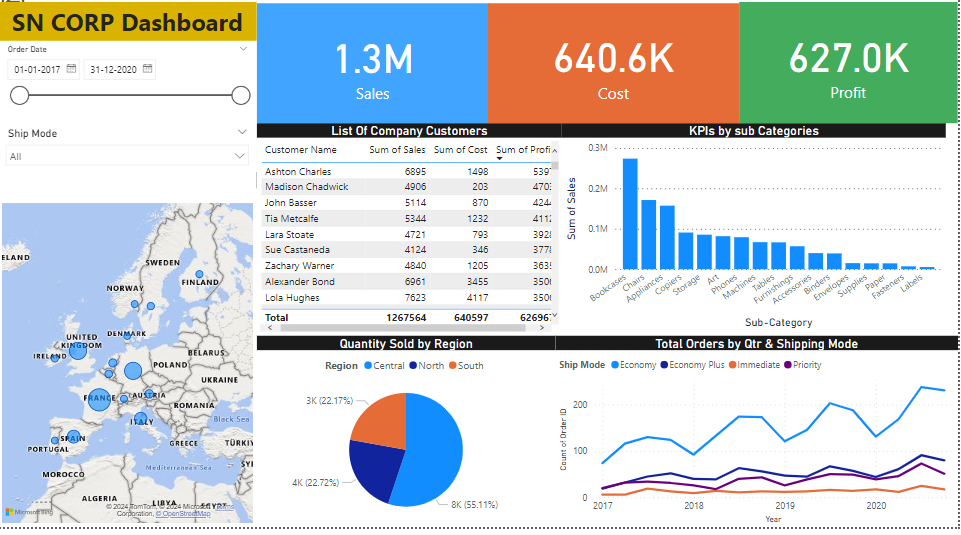

What the dashboard file says about the page in this screenshot:
{"tool":"powerbi","page":{"name":"Page 1","canvas":[1280,720],"ordinal":0},"visuals":[{"type":"card","fields":{"Values":["Sum(List of Orders.Sales)"]},"box":[356.9,31.8,283.6,141.8],"z":0},{"type":"card","fields":{"Values":["Sum(List of Orders.Sales)"]},"box":[393.8,10,283.6,141.8],"z":1000},{"type":"card","fields":{"Values":["Sum(List of Orders.Sales)"]},"box":[344.7,22,309.3,160.1],"z":2000},{"type":"card","fields":{"Values":["Sum(List of Orders.Cost)"]},"box":[667.4,0,299.5,169.9],"z":3000},{"type":"card","fields":{"Values":["Sum(List of Orders.Cost)"]},"box":[654,22,334.9,160.1],"z":4000},{"type":"card","fields":{"Values":["Sum(List of Orders.Profit)"]},"box":[988.9,20.8,290.9,161.4],"z":5000},{"type":"tableEx","title":"List Of Company Customers","fields":{"Values":["List of Orders.Customer Name","Sum(List of Orders.Sales)","Sum(List of Orders.Cost)","Sum(List of Orders.Profit)"]},"box":[344.7,182.1,407.1,282.4],"z":6000},{"type":"actionButton","box":[0,0,100,40],"z":7000},{"type":"clusteredColumnChart","title":"KPIs by sub Categories","fields":{"Y":["Sum(List of Orders.Sales)"],"Category":["List of Orders.Sub-Category"]},"box":[751.8,182.1,512.2,278.7],"z":8000},{"type":"lineChart","title":"Total Orders by Qtr & Shipping Mode","fields":{"Y":["CountNonNull(List of Orders.Order ID)"],"Category":["List of Orders.Order Date.Variation.Date Hierarchy.Year","List of Orders.Order Date.Variation.Date Hierarchy.Quarter"],"Series":["List of Orders.Ship Mode"]},"box":[743.2,464.5,536.6,255.5],"z":9000},{"type":"pieChart","title":"Quantity Sold by Region","fields":{"Y":["Sum(List of Orders.Quantity)"],"Category":["List of Orders.Region"]},"box":[344.7,464.5,398.5,255.5],"z":10000},{"type":"map","title":"Business by Countries Served","fields":{"Category":["List of Orders.Country"],"Size":["Sum(List of Orders.Sales)"]},"box":[0,246.9,344.7,473.1],"z":11000},{"type":"textbox","box":[0,20.8,344.7,52],"z":11001},{"type":"slicer","fields":{"Values":["List of Orders.Ship Mode"]},"box":[0,182.1,344.7,106.3],"z":11002},{"type":"slicer","fields":{"Values":["List of Orders.Order Date"]},"box":[0,70.9,344.7,111.2],"z":11003}]}

Visuals, with their boxes in screenshot pixels (x1, y1, x2, y2), scaled from the page's 1280x720 canvas onto the 961x535 screenshot:
card - Sum(List of Orders.Sales): [x1=268, y1=24, x2=481, y2=129]
card - Sum(List of Orders.Sales): [x1=296, y1=7, x2=509, y2=113]
card - Sum(List of Orders.Sales): [x1=259, y1=16, x2=491, y2=135]
card - Sum(List of Orders.Cost): [x1=501, y1=0, x2=726, y2=126]
card - Sum(List of Orders.Cost): [x1=491, y1=16, x2=742, y2=135]
card - Sum(List of Orders.Profit): [x1=742, y1=15, x2=960, y2=135]
"List Of Company Customers" tableEx: [x1=259, y1=135, x2=564, y2=345]
actionButton: [x1=0, y1=0, x2=75, y2=30]
"KPIs by sub Categories" clusteredColumnChart: [x1=564, y1=135, x2=949, y2=342]
"Total Orders by Qtr & Shipping Mode" lineChart: [x1=558, y1=345, x2=960, y2=534]
"Quantity Sold by Region" pieChart: [x1=259, y1=345, x2=558, y2=534]
"Business by Countries Served" map: [x1=0, y1=183, x2=259, y2=534]
textbox: [x1=0, y1=15, x2=259, y2=54]
slicer - List of Orders.Ship Mode: [x1=0, y1=135, x2=259, y2=214]
slicer - List of Orders.Order Date: [x1=0, y1=53, x2=259, y2=135]
